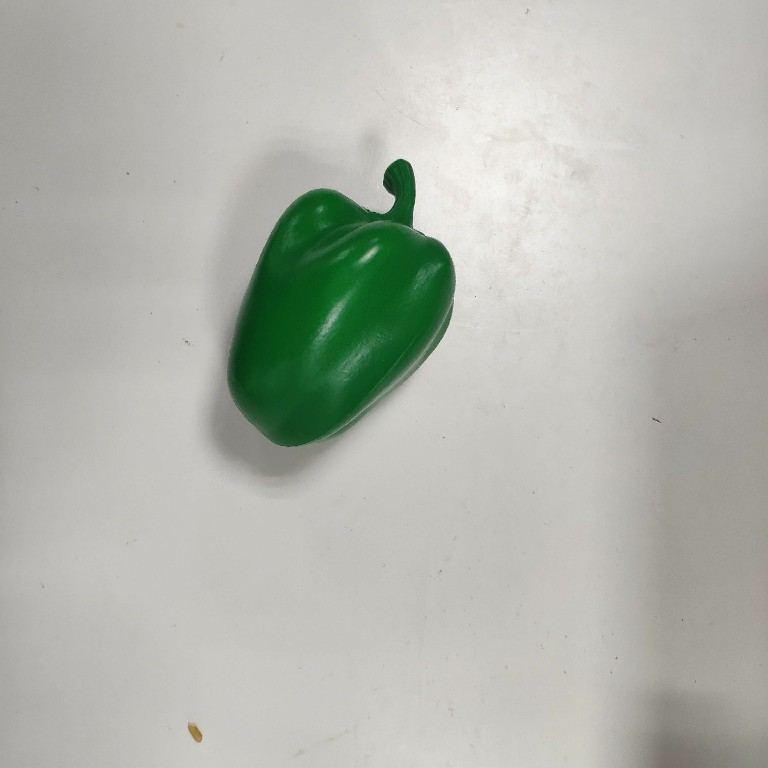fruit_pepper: (223, 156, 459, 450)
